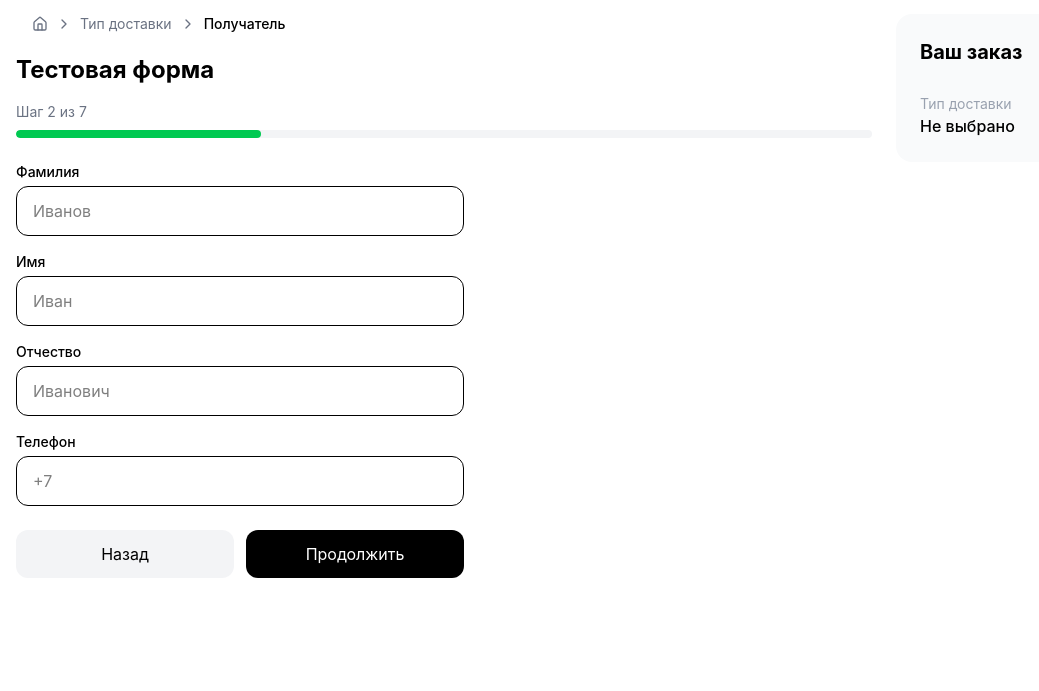
Scenario: PersonForm › displays errors if form is empty
Click the button "Продолжить" at point(355, 554), box [246,530,464,578]
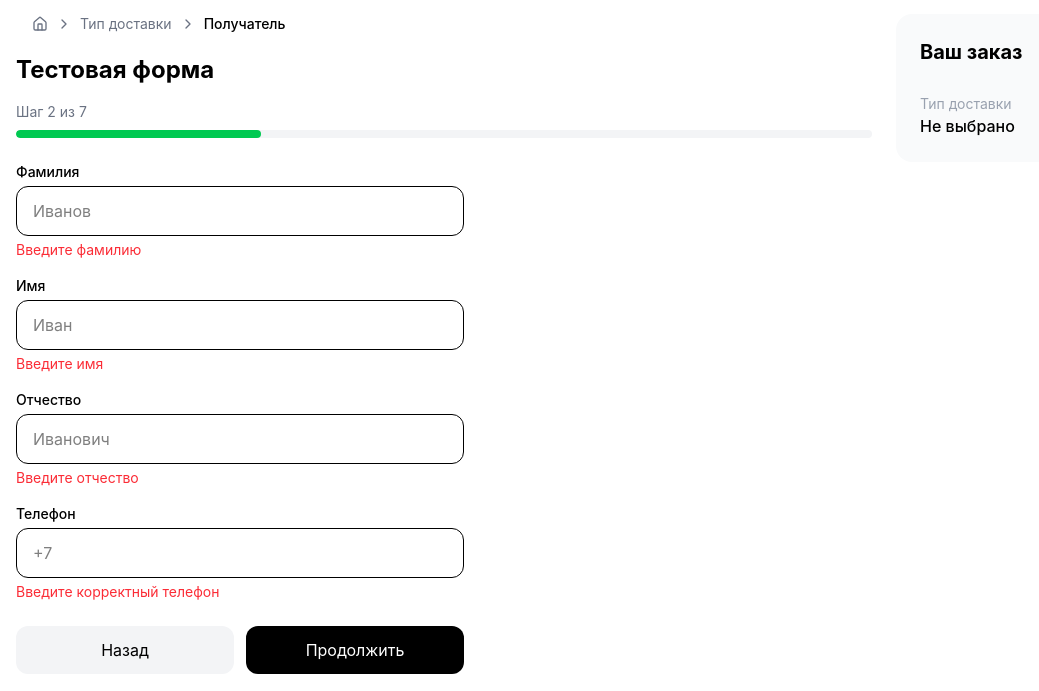
Expected: the text "Введите фамилию" is shown, [16,241,141,258]
Expected: the text "Введите имя" is shown, [16,355,103,372]
Expected: the text "Введите отчество" is shown, [16,469,139,486]
